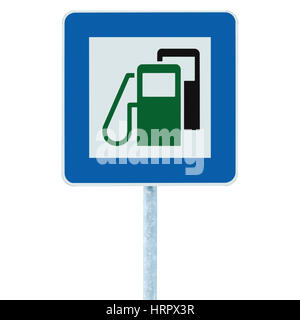fuel-station: (89, 37, 210, 156)
